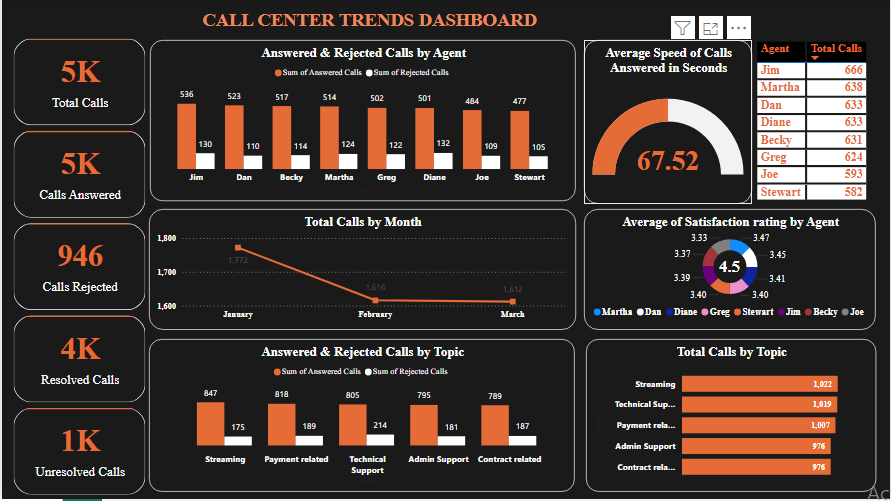

The dashboard page shown, as its layout file describes it:
{"tool":"powerbi","page":{"name":"Dashboard","canvas":[1280,720],"ordinal":0},"visuals":[{"type":"cardVisual","fields":{"Data":["Sheet1.Total Calls","Sheet1.Answered Calls","Sheet1.Rejected Calls","Sheet1.Resolved Calls","Sheet1.Unresoved Calls"]},"box":[11.5,51.8,200.2,668.2],"z":0},{"type":"clusteredColumnChart","title":"Answered & Rejected Calls by Agent","fields":{"Category":["Sheet1.Agent"],"Y":["Sheet1.Answered Calls","Sheet1.Rejected Calls"]},"box":[213.1,59,613.4,231.8],"z":1000},{"type":"tableEx","fields":{"Values":["Sheet1.Agent","Sheet1.Total Calls"]},"box":[1081.4,56.2,177.1,246.2],"z":2000},{"type":"lineChart","fields":{"Y":["Sheet1.Total Calls"],"Category":["Sheet1.Date.Variation.Date Hierarchy.Month","Sheet1.Date.Variation.Date Hierarchy.Day"]},"box":[211.7,302.4,614.9,174.2],"z":3000},{"type":"clusteredColumnChart","title":"Answered & Rejected Calls by Topic","fields":{"Category":["Sheet1.Topic"],"Y":["Sheet1.Answered Calls","Sheet1.Rejected Calls"]},"box":[211.7,489.6,613.4,220.3],"z":4000},{"type":"barChart","title":"Total Calls by Topic","fields":{"Category":["Sheet1.Topic"],"Y":["Sheet1.Total Calls"]},"box":[841,489.6,417.6,220.3],"z":5000},{"type":"gauge","title":"Average  Speed of Calls  Answered in Seconds","fields":{"Y":["Sheet1.Speed of answer in seconds"]},"box":[838.1,59,241.9,236.2],"z":6000},{"type":"donutChart","fields":{"Y":["Sheet1.Satisfaction rating"],"Category":["Sheet1.Agent"]},"box":[838.1,302.4,420.5,174.2],"z":7000},{"type":"card","fields":{"Values":["Sheet1.Target Rating"]},"box":[897.1,237.6,301,295.2],"z":8000},{"type":"textbox","box":[99.4,10.1,859.7,49],"z":9000}]}

Visuals, with their boxes in screenshot pixels (x1, y1, x2, y2), scaled from the page's 1280x720 canvas onto the 891x501 screenshot:
cardVisual - Sheet1.Total Calls x Sheet1.Answered Calls: BBox(8, 36, 147, 500)
"Answered & Rejected Calls by Agent" clusteredColumnChart: BBox(148, 41, 575, 202)
tableEx - Sheet1.Agent x Sheet1.Total Calls: BBox(753, 39, 876, 210)
lineChart - Sheet1.Total Calls x Sheet1.Date.Variation.Date Hierarchy.Month: BBox(147, 210, 575, 332)
"Answered & Rejected Calls by Topic" clusteredColumnChart: BBox(147, 341, 574, 494)
"Total Calls by Topic" barChart: BBox(585, 341, 876, 494)
"Average  Speed of Calls  Answered in Seconds" gauge: BBox(583, 41, 752, 205)
donutChart - Sheet1.Satisfaction rating x Sheet1.Agent: BBox(583, 210, 876, 332)
card - Sheet1.Target Rating: BBox(624, 165, 834, 371)
textbox: BBox(69, 7, 668, 41)
